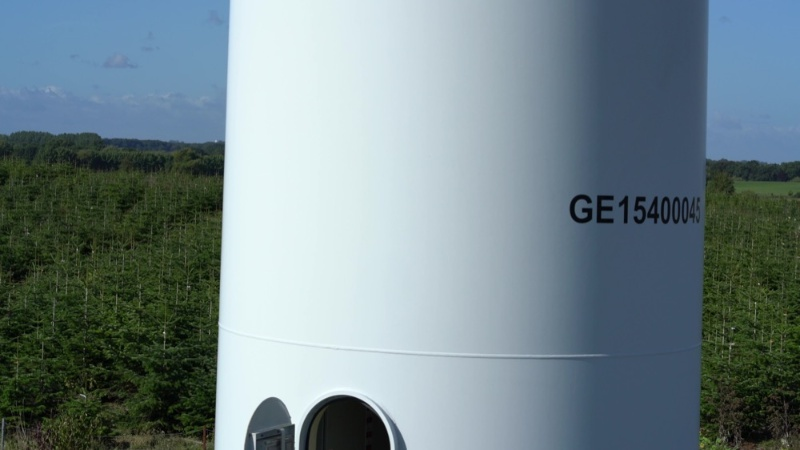weldseam: (218, 317, 702, 362)
